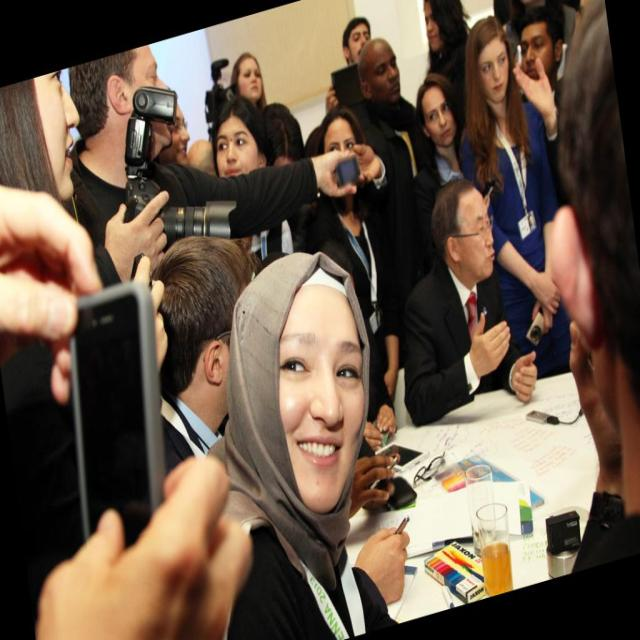phone: (69, 284, 166, 543), (337, 156, 361, 183)
